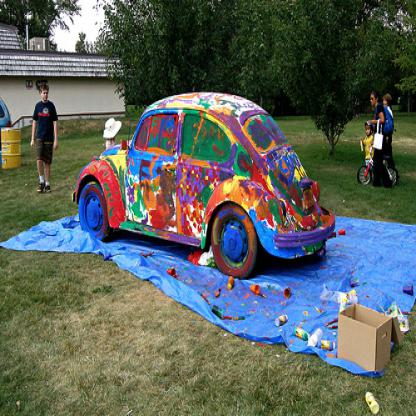bicycle: (356, 154, 399, 189)
car: (72, 91, 337, 281), (1, 96, 14, 148)
person: (30, 83, 59, 194), (369, 93, 395, 189), (383, 94, 396, 170), (360, 120, 376, 175)
